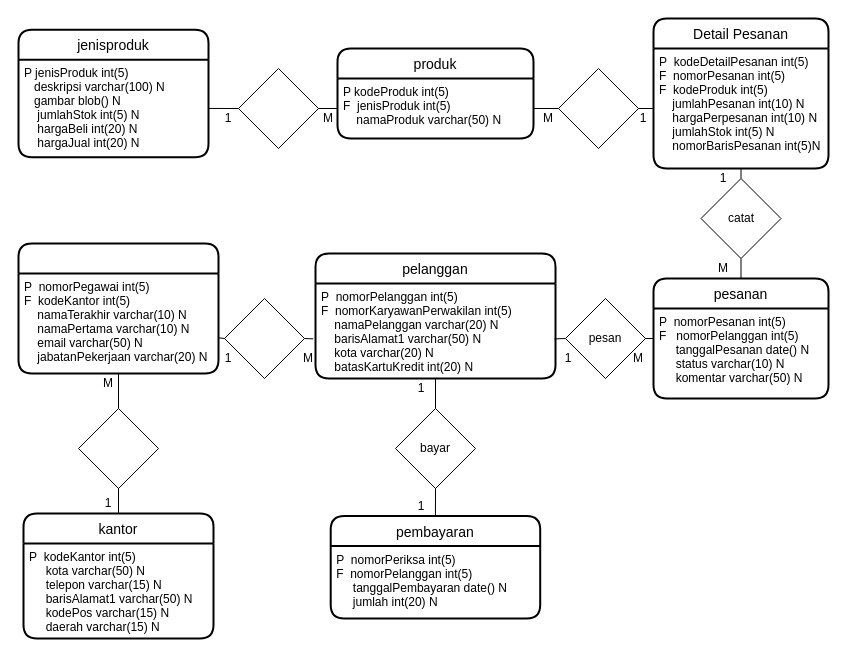
This 846x656 diagram has some shape labels left out. The shapes that lost their labels are listed below. From the top down, each one's box as (x1, y1, x2, y2) in pixels, then its label:
(238, 68, 318, 148): detail
(558, 68, 638, 148): cari
(17, 242, 219, 374): karyawan
(224, 298, 304, 378): layan
(78, 408, 158, 488): tempat
